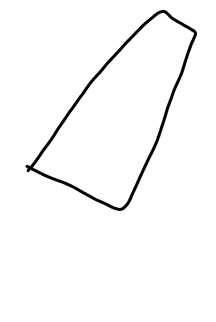Square: (23, 7, 198, 214)
